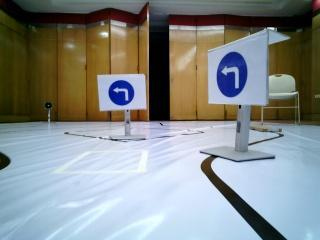left: (205, 46, 263, 100), (99, 76, 145, 110)
